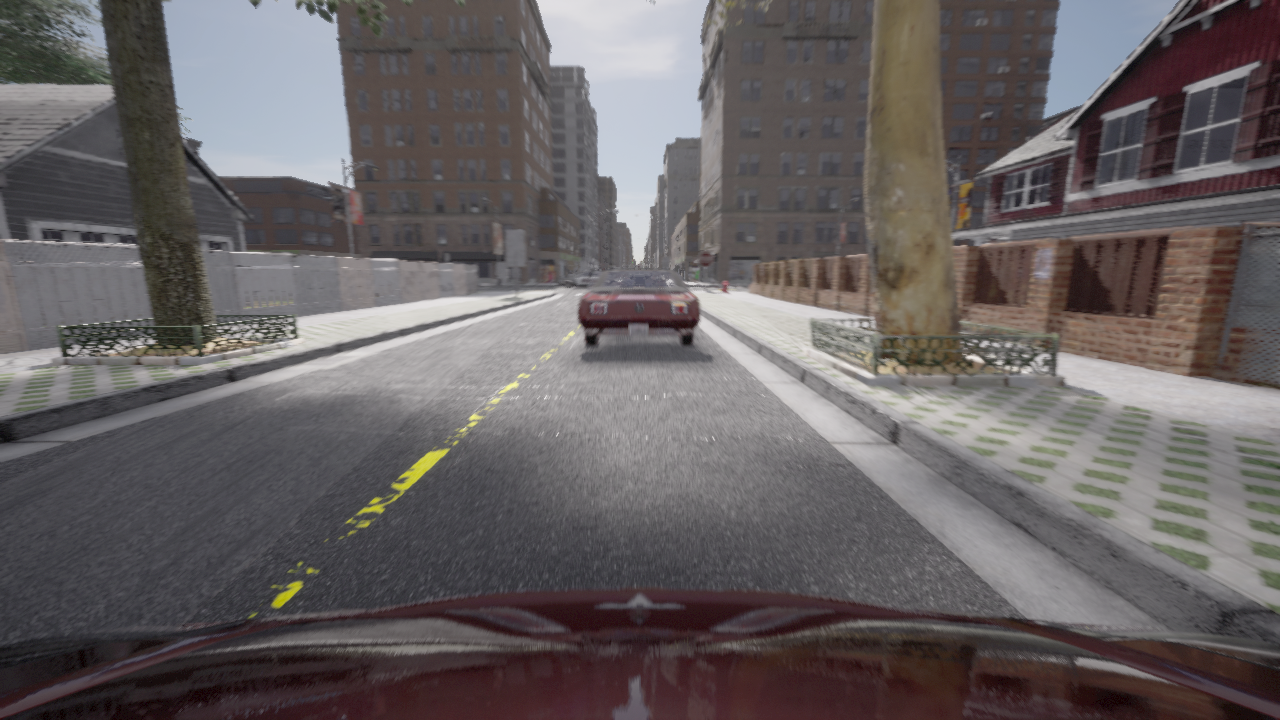cyclist: (0, 588, 1279, 719), (578, 269, 700, 345), (556, 270, 600, 288)
